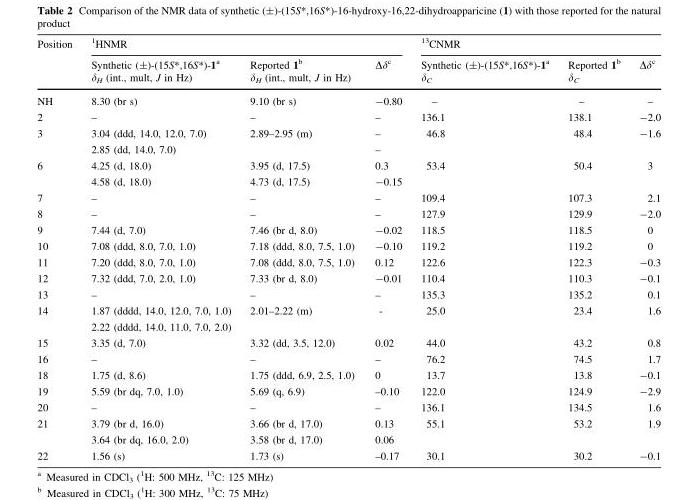table: (36, 36, 660, 460)
table column: (81, 36, 239, 460), (410, 36, 557, 460), (239, 36, 364, 460), (557, 36, 629, 460), (364, 36, 410, 460), (36, 36, 81, 460), (629, 36, 660, 460)
table column header: (36, 36, 660, 89)
table row: (36, 89, 660, 109), (36, 70, 660, 89), (36, 36, 660, 53), (36, 53, 660, 70), (36, 205, 660, 222), (36, 334, 660, 351), (36, 109, 660, 125), (36, 125, 660, 141), (36, 141, 660, 157), (36, 157, 660, 173), (36, 173, 660, 189), (36, 189, 660, 205), (36, 222, 660, 238), (36, 238, 660, 254), (36, 254, 660, 270), (36, 270, 660, 286), (36, 286, 660, 302), (36, 302, 660, 318), (36, 318, 660, 334), (36, 351, 660, 367), (36, 367, 660, 383), (36, 383, 660, 399), (36, 399, 660, 415), (36, 415, 660, 431), (36, 431, 660, 447), (36, 447, 660, 460)
table spanning cell: (81, 53, 239, 89), (81, 36, 410, 53), (410, 53, 557, 89), (239, 53, 364, 89), (410, 36, 660, 53), (557, 53, 629, 89), (36, 36, 81, 89), (364, 53, 410, 89), (36, 125, 81, 157), (36, 157, 81, 189), (36, 302, 81, 334), (36, 415, 81, 447), (629, 53, 660, 89)
